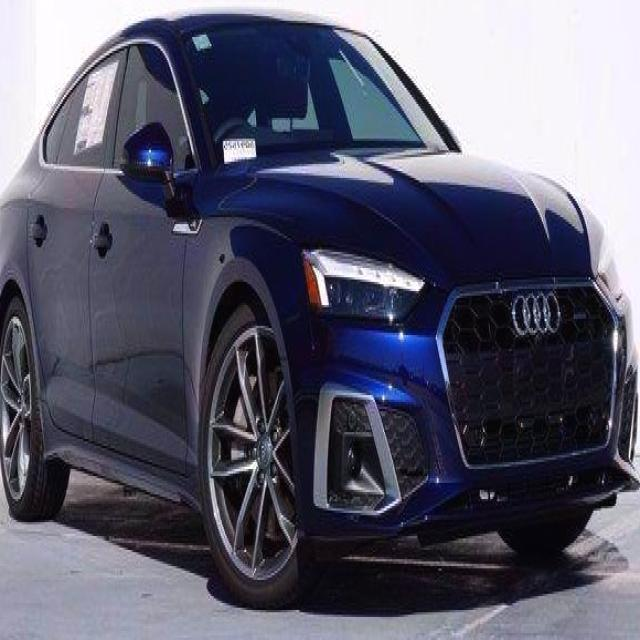blue: (0, 7, 640, 608)
